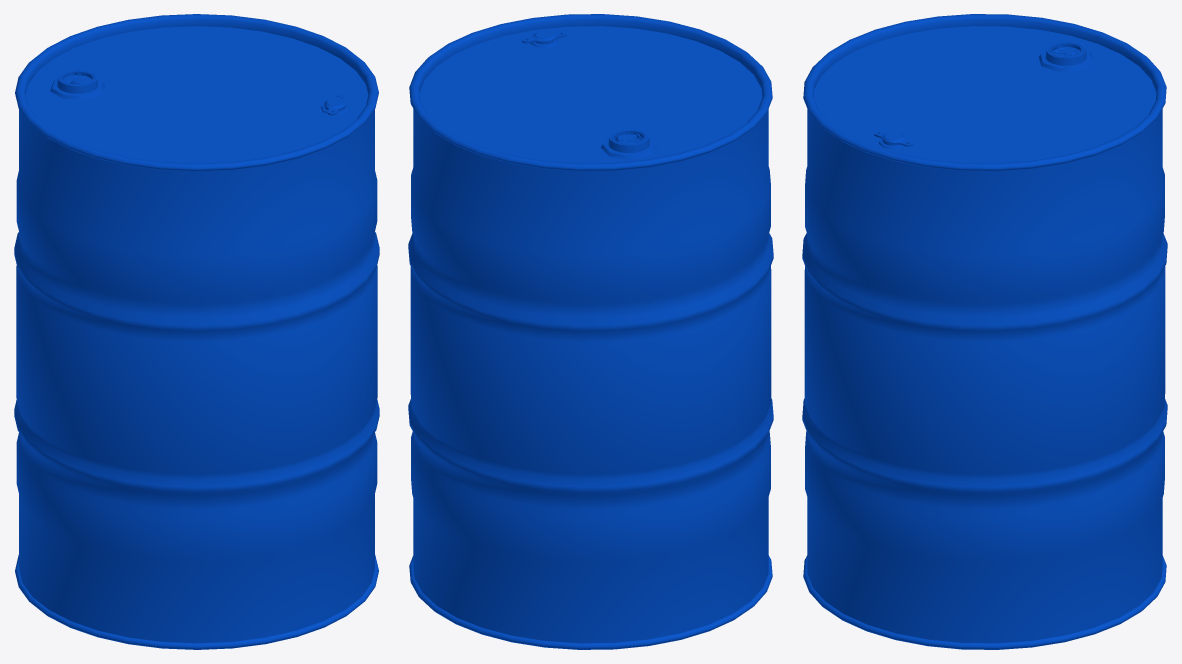
The model's file is barrel 1.fbx.
3 views of the same model, side by side, from view 1: azimuth 30°, elevation 25°; view 2: azimuth 150°, elevation 25°; view 3: azimuth 270°, elevation 25° (orthographic).
Parts seen in each view (by area): view 1: barrel; view 2: barrel; view 3: barrel.
Part boxes in pixels (x1,y1,x2,y2): barrel: (14, 14, 379, 649); barrel: (408, 14, 773, 649); barrel: (802, 14, 1167, 649).
Size of the model in its own units: 61.46 by 90.43 by 61.46.
